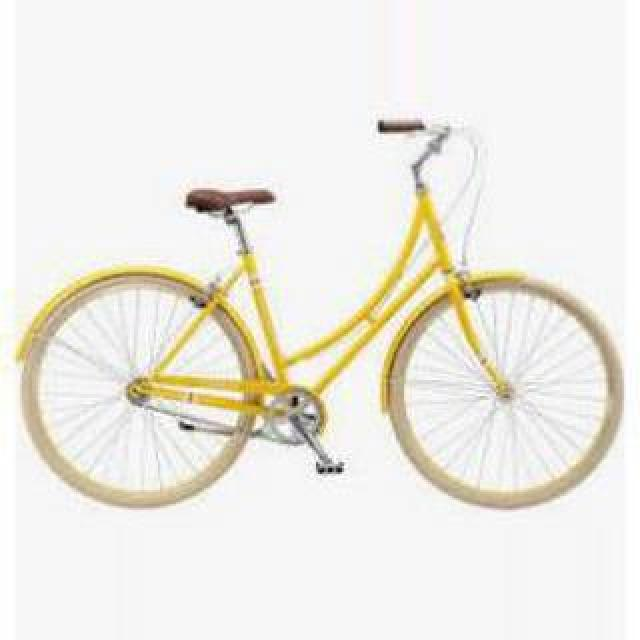Person: (19, 119, 623, 511)
